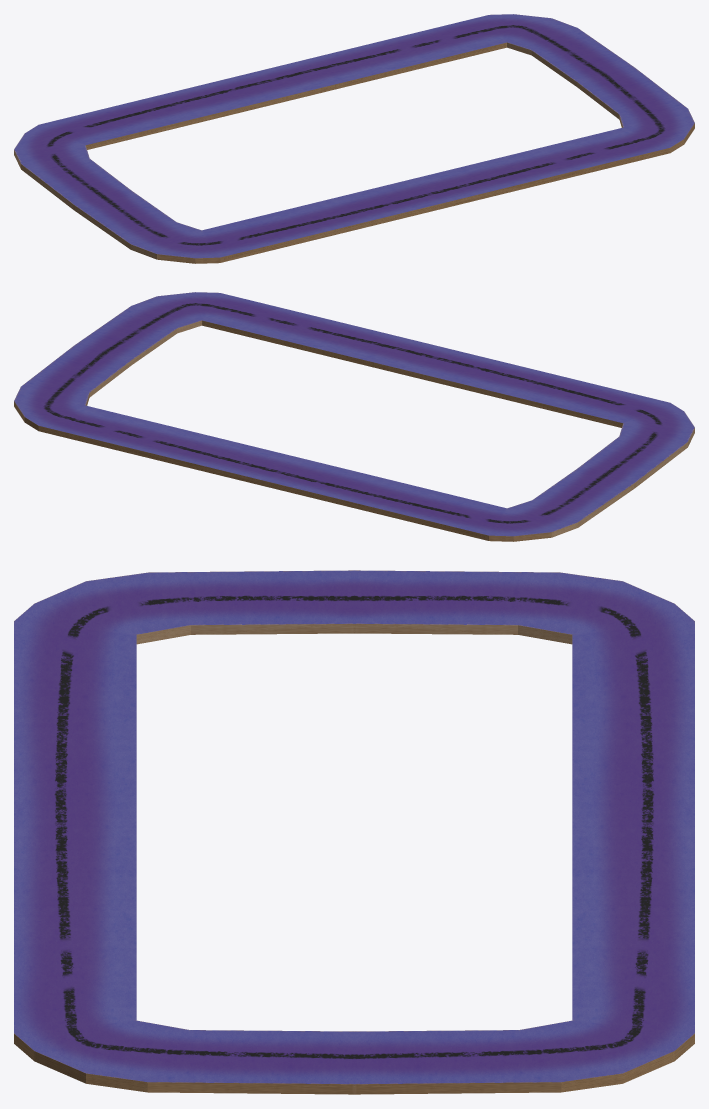
Rendered from Railroad_tracks.fbx.
The picture shows the model from 3 angles, top to bottom: view 1: azimuth 30°, elevation 25°; view 2: azimuth 150°, elevation 25°; view 3: azimuth 270°, elevation 25°; orthographic projection. The views are drawn at different scales.
Parts seen in each view (by area): view 1: Railroad_tracks; view 2: Railroad_tracks; view 3: Railroad_tracks.
Part boxes in pixels (x1,y1,x2,y2): Railroad_tracks: (14, 14, 694, 263); Railroad_tracks: (14, 292, 694, 541); Railroad_tracks: (14, 570, 694, 1094).
Bounding box in the file's own units: 560 × 5.21 × 313.
1 material, 1 textured.
